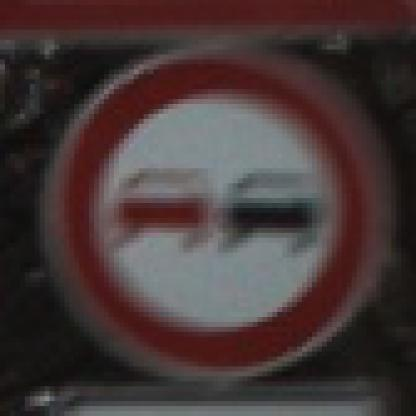No Overtaking: (41, 41, 382, 378)
